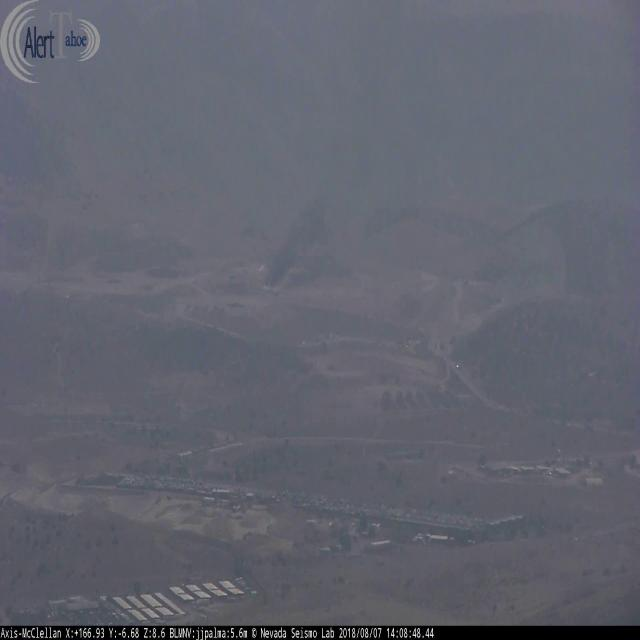smoke: (262, 185, 351, 296)
